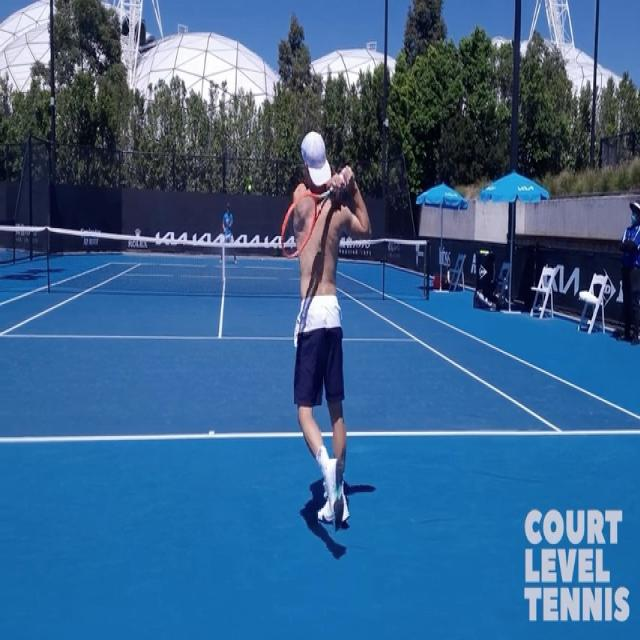backhand-finish: (282, 125, 369, 542)
